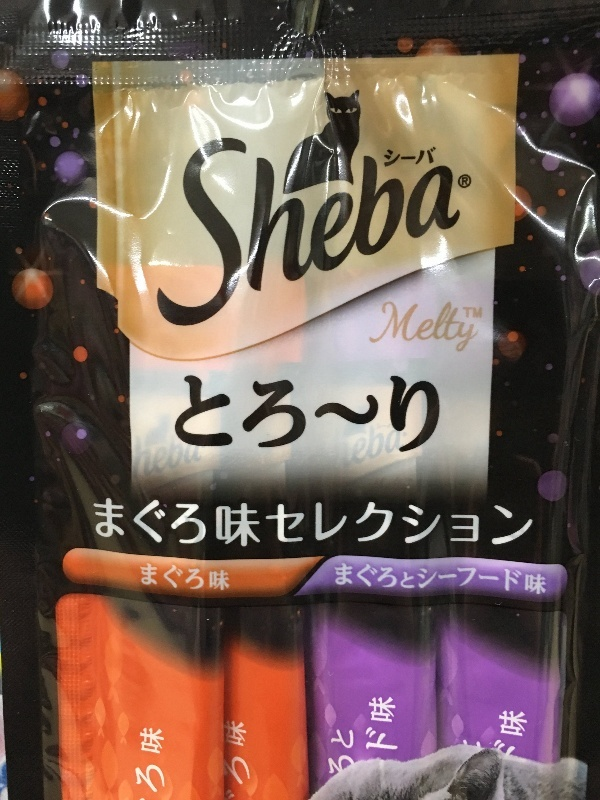text: (193, 110, 208, 347), (209, 110, 224, 347), (225, 110, 240, 347), (241, 110, 256, 347), (257, 110, 272, 347), (273, 110, 288, 347), (289, 110, 304, 347), (305, 110, 320, 347), (321, 110, 336, 347), (337, 110, 352, 347), (353, 110, 368, 347), (369, 110, 384, 347), (385, 110, 400, 347), (401, 110, 416, 347), (417, 110, 432, 347), (433, 110, 448, 347), (449, 110, 463, 347), (193, 375, 208, 453), (209, 375, 224, 453), (225, 375, 240, 453), (241, 375, 256, 453), (257, 375, 272, 453), (273, 375, 288, 453), (289, 375, 304, 453), (305, 375, 320, 453), (321, 375, 336, 453), (337, 375, 352, 453), (353, 375, 368, 453), (369, 375, 384, 453), (385, 375, 400, 453), (401, 375, 416, 453), (417, 375, 432, 453), (433, 375, 448, 453), (449, 375, 464, 453), (385, 297, 400, 356), (401, 297, 416, 356), (417, 297, 432, 356), (433, 297, 448, 356), (449, 297, 464, 356), (465, 297, 480, 356), (97, 500, 112, 558), (113, 500, 128, 558), (129, 500, 144, 558), (145, 500, 160, 558), (161, 500, 176, 558), (177, 500, 192, 558), (193, 500, 208, 558), (209, 500, 224, 558), (225, 500, 240, 558), (241, 500, 256, 558), (257, 500, 272, 558), (273, 500, 288, 558), (289, 500, 304, 558), (305, 500, 320, 558), (321, 500, 336, 558), (337, 500, 352, 558), (353, 500, 368, 558), (369, 500, 384, 558), (385, 500, 400, 558), (401, 500, 416, 558), (417, 500, 432, 558), (433, 500, 448, 558), (449, 500, 464, 558), (465, 500, 480, 558), (481, 500, 496, 558), (497, 500, 512, 558), (513, 500, 528, 558), (353, 425, 368, 471), (369, 425, 384, 471), (385, 425, 400, 471), (145, 437, 160, 480), (161, 437, 176, 480), (177, 437, 192, 480), (145, 761, 160, 800), (225, 754, 240, 792), (185, 375, 192, 453), (337, 564, 352, 598), (353, 564, 368, 598), (369, 564, 384, 598), (385, 564, 400, 598), (401, 564, 416, 598), (417, 564, 432, 598), (433, 564, 448, 598), (449, 564, 464, 598), (465, 564, 480, 598), (481, 564, 496, 598), (497, 564, 512, 598), (513, 564, 528, 598), (529, 564, 544, 598), (513, 709, 529, 740), (241, 754, 254, 792), (145, 728, 160, 759), (225, 720, 240, 751), (369, 723, 384, 754), (369, 697, 384, 726), (385, 697, 400, 726), (385, 723, 399, 754), (145, 566, 160, 594), (161, 566, 176, 594), (177, 566, 192, 594), (193, 566, 208, 594), (209, 566, 224, 594), (481, 297, 488, 356), (499, 709, 512, 740), (134, 761, 144, 800), (337, 730, 352, 756), (135, 437, 144, 480), (193, 437, 202, 480), (337, 753, 352, 778), (344, 425, 352, 471), (529, 500, 535, 558), (465, 739, 480, 762), (481, 739, 496, 762), (497, 739, 512, 762), (385, 147, 400, 169), (401, 147, 416, 169), (417, 147, 432, 169), (465, 375, 469, 453), (161, 761, 168, 800), (465, 305, 480, 321), (92, 500, 96, 558), (327, 753, 336, 778), (225, 566, 233, 594), (241, 720, 248, 751), (330, 730, 336, 756), (161, 728, 166, 759), (225, 790, 240, 800), (545, 564, 549, 598), (140, 728, 144, 759), (382, 297, 384, 356), (140, 566, 144, 594), (433, 147, 438, 169), (365, 723, 368, 754), (513, 739, 517, 762), (401, 425, 403, 471), (353, 753, 356, 778), (461, 739, 464, 762), (334, 564, 336, 598), (465, 175, 470, 188), (222, 720, 224, 751), (353, 730, 355, 756), (481, 305, 484, 321), (461, 175, 464, 188), (401, 697, 402, 726), (463, 305, 464, 321)
